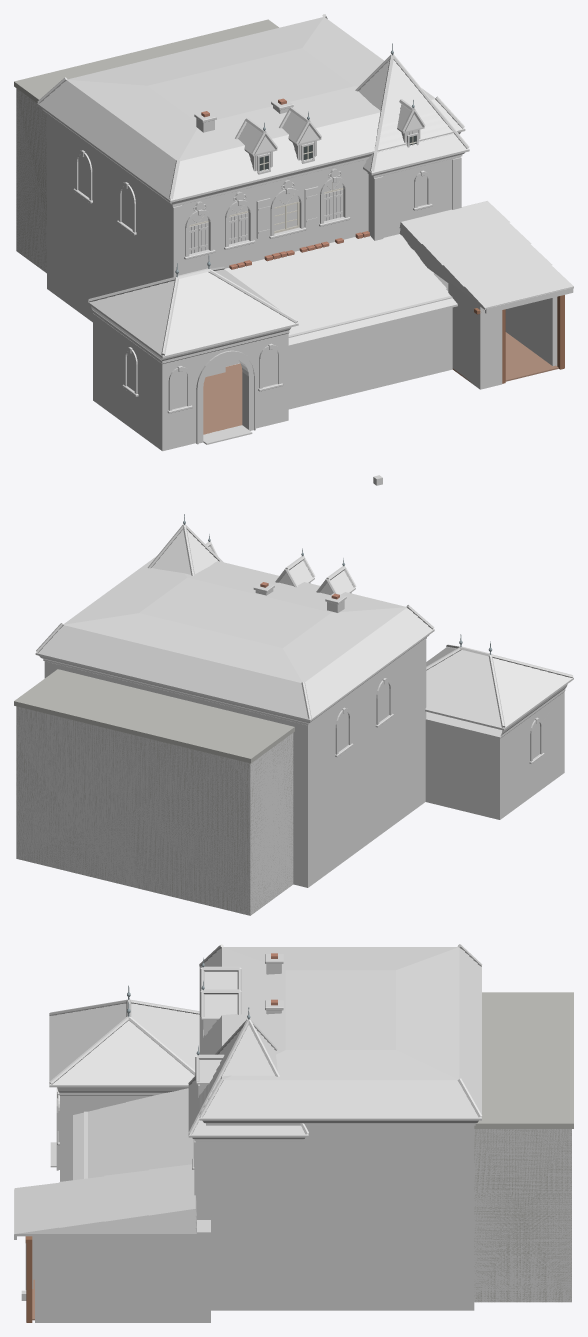
The model's file is AR_Assepoester_huis.fbx.
3 renders of one model, top to bottom at view 1: azimuth 30°, elevation 25°; view 2: azimuth 150°, elevation 25°; view 3: azimuth 270°, elevation 25°, orthographic. The views are drawn at different scales.
Parts seen in each view (by area): view 1: static__TEX_pannen_hoofd_0, static__TEX_pannen_laag_0, COLL_6, static__TEX_stuc_noord_0, static__TEX_stuc_voor_0, COLL_5, static__TEX_groen_0, static__TEX_omlijsting_0, static__MAT_achter_0, COLL_0, COLL_8, static__MAT_vloer_0 (+8 smaller); view 2: COLL_8, static__TEX_pannen_hoofd_0, static__MAT_achter_0, COLL_6, static__TEX_pannen_laag_0, static__TEX_stuc_noord_0, COLL_3, COLL_0, static__TEX_groen_0, static__TEX_stuc_achter_0, static__TEX_omlijsting_0; view 3: static__TEX_pannen_hoofd_0, COLL_6, static__TEX_pannen_laag_0, static__TEX_stuc_zuid_0, static__MAT_achter_0, COLL_8, COLL_9, static__TEX_groen_0, COLL_10, static__TEX_stuc_binnen_0, static__TEX_omlijsting_0, COLL_7 (+2 smaller).
Boxes of the visible parts, x1,y1,x2,y2 form: static__TEX_pannen_hoofd_0: [37, 14, 469, 202]; static__TEX_pannen_laag_0: [87, 201, 573, 358]; COLL_6: [47, 115, 342, 366]; static__TEX_stuc_noord_0: [47, 121, 373, 450]; static__TEX_stuc_voor_0: [162, 106, 445, 449]; COLL_5: [288, 296, 452, 409]; static__TEX_groen_0: [43, 99, 573, 363]; static__TEX_omlijsting_0: [73, 98, 461, 444]; static__MAT_achter_0: [14, 19, 278, 273]; COLL_0: [93, 313, 171, 450]; COLL_8: [16, 88, 46, 272]; static__MAT_vloer_0: [203, 332, 558, 434]; COLL_8: [16, 706, 293, 915]; static__TEX_pannen_hoofd_0: [35, 524, 434, 721]; static__MAT_achter_0: [14, 669, 294, 915]; COLL_6: [44, 661, 424, 887]; static__TEX_pannen_laag_0: [425, 644, 573, 730]; static__TEX_stuc_noord_0: [308, 640, 564, 885]; COLL_3: [425, 714, 495, 817]; COLL_0: [491, 692, 564, 819]; static__TEX_groen_0: [39, 541, 567, 738]; static__TEX_stuc_achter_0: [44, 662, 499, 887]; static__TEX_omlijsting_0: [253, 582, 544, 778]; static__TEX_pannen_hoofd_0: [188, 944, 482, 1137]; COLL_6: [210, 1125, 474, 1310]; static__TEX_pannen_laag_0: [14, 999, 199, 1236]; static__TEX_stuc_zuid_0: [39, 1125, 474, 1322]; static__MAT_achter_0: [474, 992, 573, 1302]; COLL_8: [474, 1129, 571, 1302]; COLL_9: [35, 1236, 195, 1322]; static__TEX_groen_0: [14, 966, 478, 1279]; COLL_10: [195, 1220, 210, 1322]; static__TEX_stuc_binnen_0: [60, 1096, 151, 1181]; static__TEX_omlijsting_0: [56, 954, 283, 1216]; COLL_7: [195, 1141, 206, 1219].
Bounding box in the file's own units: 12.57 × 10.15 × 14.56.
